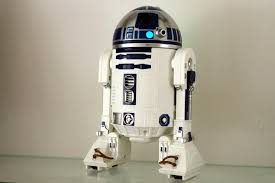r2d2: (84, 6, 205, 180)
